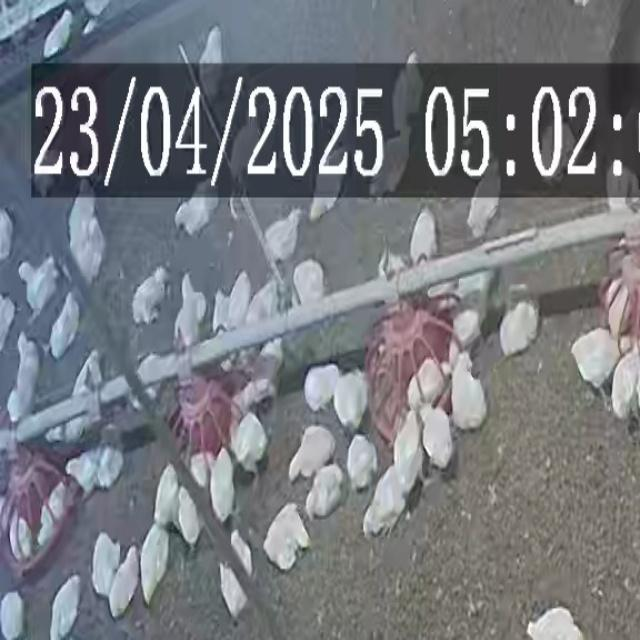chicken: (64, 184, 111, 284), (569, 327, 631, 392), (264, 500, 312, 570), (362, 467, 408, 538), (6, 336, 42, 425), (449, 352, 488, 432), (218, 531, 251, 621), (62, 443, 126, 489), (287, 424, 336, 482), (17, 255, 60, 319), (32, 479, 76, 541), (173, 272, 207, 348), (498, 299, 540, 360), (392, 410, 424, 490), (466, 163, 501, 236), (129, 266, 171, 326), (138, 527, 170, 605), (262, 207, 304, 265), (107, 545, 140, 618), (300, 463, 346, 515), (231, 411, 269, 473), (47, 292, 81, 360), (332, 369, 368, 432), (406, 356, 447, 411), (174, 188, 218, 239), (420, 404, 454, 468), (49, 575, 82, 639), (209, 449, 236, 523), (91, 532, 121, 597), (136, 349, 184, 389), (345, 434, 378, 492), (304, 362, 342, 411), (409, 205, 439, 267), (292, 260, 330, 305), (243, 278, 275, 330), (225, 271, 252, 330)
